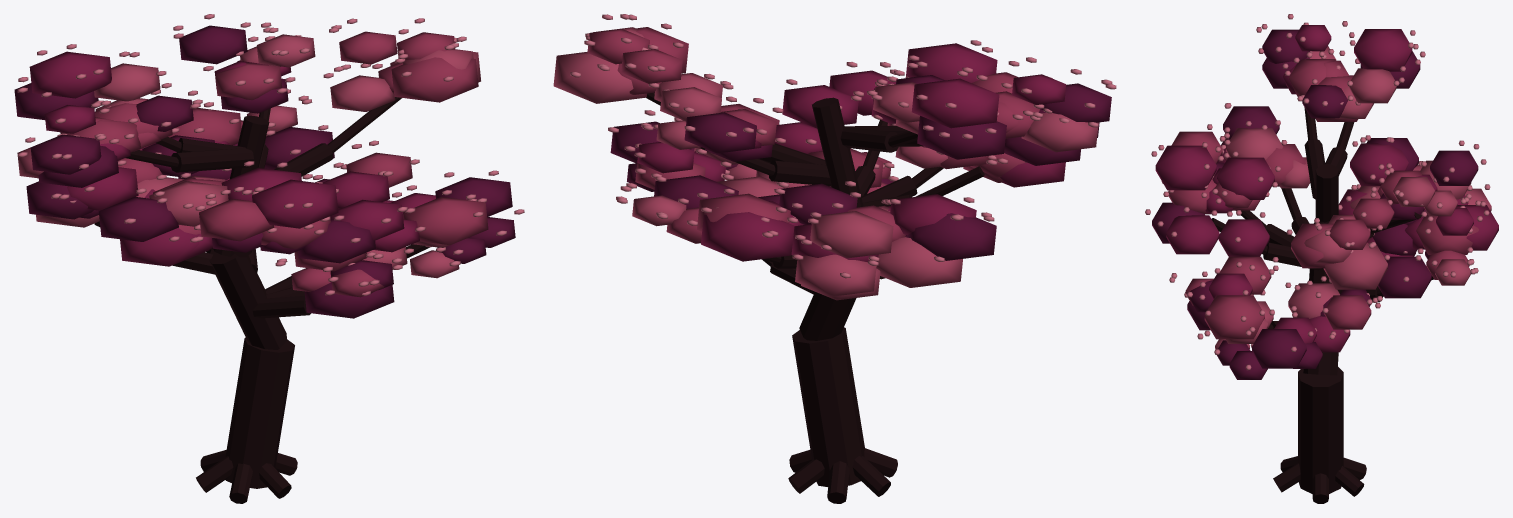
Rendered from SM_JA_BlossomTree.fbx.
3 renders of one model, left to right at view 1: azimuth 30°, elevation 25°; view 2: azimuth 150°, elevation 25°; view 3: azimuth 270°, elevation 25°, orthographic. The views are drawn at different scales.
Parts seen in each view (by area): view 1: SM_JA_BlossomTree; view 2: SM_JA_BlossomTree; view 3: SM_JA_BlossomTree.
Boxes of the visible parts, x1,y1,x2,y2 form: SM_JA_BlossomTree: [14, 14, 524, 503]; SM_JA_BlossomTree: [553, 14, 1116, 503]; SM_JA_BlossomTree: [1145, 14, 1498, 503].
Bounding box in the file's own units: 7.77 × 5.48 × 6.69.
